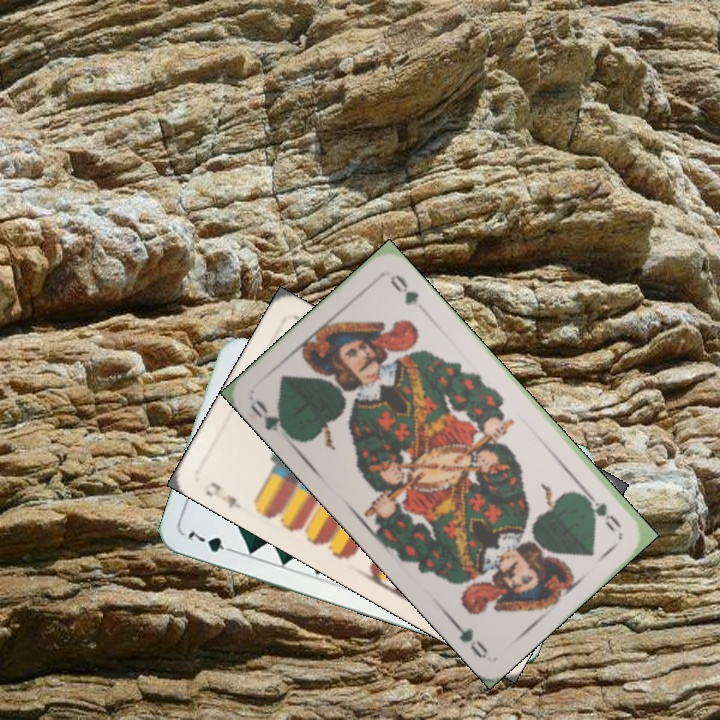E9: (201, 477, 244, 512)
G7: (183, 527, 240, 556)
GO: (577, 486, 624, 535), (246, 395, 294, 442)
